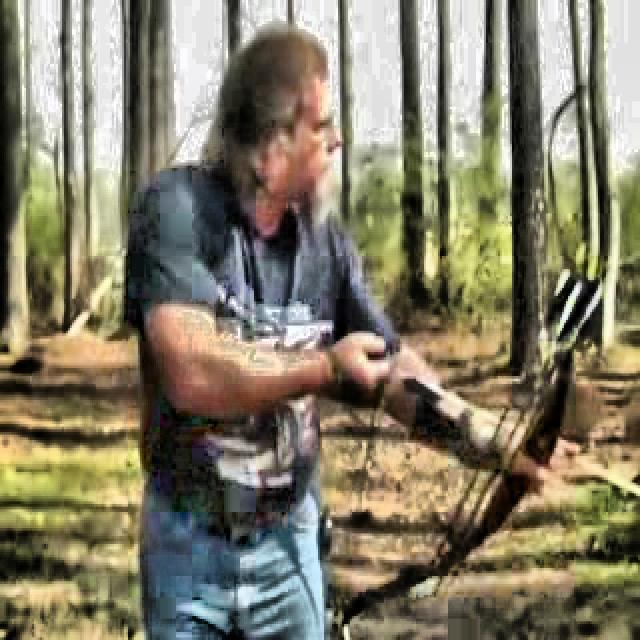I: (124, 17, 544, 634)
